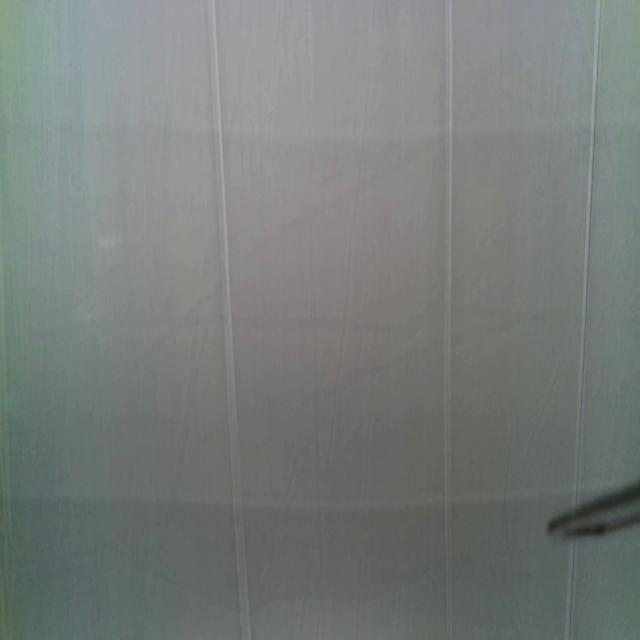color bleeding: (0, 114, 640, 159), (0, 476, 577, 520)
crease: (209, 0, 251, 637), (573, 0, 604, 495), (443, 1, 454, 640), (565, 543, 579, 640)
